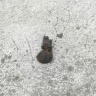Dog: (38, 35, 54, 62)
